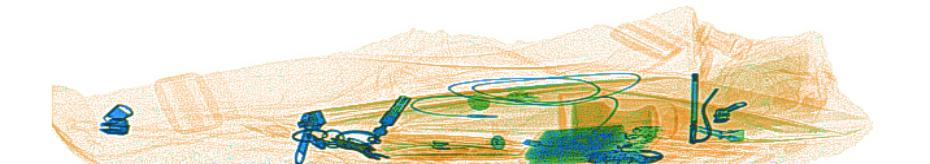seal: (568, 98, 662, 151)
